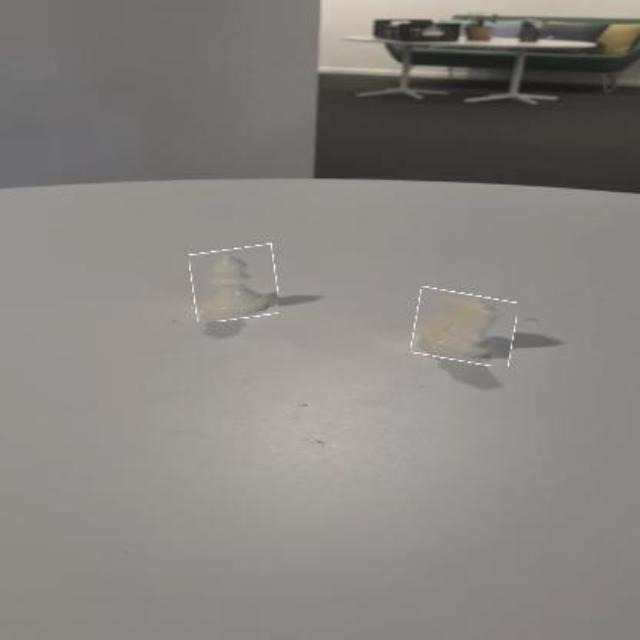white-bishop: (192, 247, 278, 320)
white-knight: (413, 290, 516, 363)
